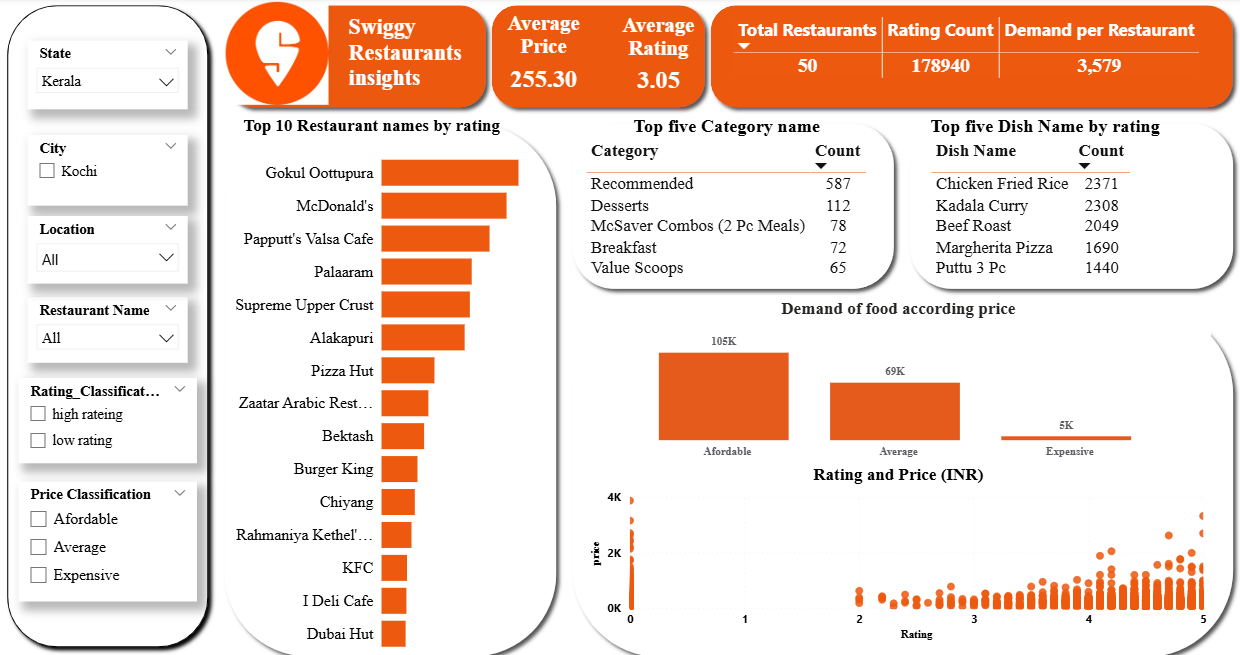

Layout of this report page (visuals, bound fields, positions):
{"tool":"powerbi","page":{"name":"Page 1","canvas":[1360,730],"ordinal":0},"visuals":[{"type":"shape","box":[241.3,0,300.4,129.7],"z":0},{"type":"shape","box":[530.3,0,251.2,129.7],"z":1000},{"type":"shape","box":[770,0,589.4,129.7],"z":2000},{"type":"image","box":[241.3,0,126.4,123.1],"z":3000},{"type":"shape","box":[0,0,238,720.7],"z":4000},{"type":"slicer","fields":{"Values":["swiggy_all_menus_india.State"]},"box":[31.2,47.6,175.7,75.5],"z":5000},{"type":"slicer","fields":{"Values":["swiggy_all_menus_india.City"]},"box":[31.2,151,175.7,77.2],"z":6000},{"type":"card","title":"Average Rating","fields":{"Values":["Avg(swiggy_all_menus_india.Rating)"]},"box":[673.1,18.1,96.9,93.6],"z":7000},{"type":"slicer","fields":{"Values":["swiggy_all_menus_india.Restaurant Name"]},"box":[31.2,328.3,175.7,72.2],"z":8000},{"type":"shape","box":[618.4,130.5,369.5,198.8],"z":9000},{"type":"shape","box":[238,129.7,380.9,600.9],"z":10000},{"type":"shape","box":[987.9,130.5,371.5,198.8],"z":11000},{"type":"barChart","title":"Top 10 Restaurant names by rating","fields":{"Category":["swiggy_all_menus_india.Restaurant Name"],"Y":["Sum(swiggy_all_menus_india.Rating Count)"]},"box":[241.3,129.7,333.3,600.9],"z":12000},{"type":"tableEx","title":"Top five Category name","fields":{"Values":["swiggy_all_menus_india.Category","CountNonNull(swiggy_all_menus_india.Restaurant Name)"]},"box":[636.5,130.5,319.3,198.8],"z":13000},{"type":"shape","box":[618.4,329.3,740.9,401.6],"z":14000},{"type":"tableEx","title":"Top five Dish Name by rating","fields":{"Values":["swiggy_all_menus_india.Dish Name","Sum(swiggy_all_menus_india.Rating Count)"]},"box":[1014,130.5,325.3,198.8],"z":15000},{"type":"slicer","fields":{"Values":["swiggy_all_menus_india.Price Classification"]},"box":[21.3,530.3,195.4,131.3],"z":16000},{"type":"scatterChart","fields":{"X":["swiggy_all_menus_india.Rating"],"Y":["swiggy_all_menus_india.Price (INR)"]},"box":[642.5,512,684.7,196.8],"z":17000},{"type":"slicer","fields":{"Values":["swiggy_all_menus_india.Rating_Classification"]},"box":[21.3,417,195.4,93.6],"z":18000},{"type":"slicer","fields":{"Values":["swiggy_all_menus_india.Location"]},"box":[31.2,239.7,175.7,73.9],"z":19000},{"type":"tableEx","fields":{"Values":["swiggy_all_menus_india.Total Restaurants","swiggy_all_menus_india.Total Ratings","swiggy_all_menus_india.Demand per Restaurant"]},"box":[797.9,16.4,541.8,95.2],"z":20000},{"type":"card","title":"Average Price","fields":{"Values":["Avg(swiggy_all_menus_india.Price (INR))"]},"box":[541.8,16.4,108.4,95.2],"z":21000},{"type":"columnChart","title":"Demand of food according price","fields":{"Category":["swiggy_all_menus_india.Price Classification"],"Y":["Sum(swiggy_all_menus_india.Rating Count)"]},"box":[642.5,329.3,684.7,182.7],"z":22000},{"type":"textbox","box":[377.6,13.1,152.7,96.9],"z":23000}]}

Visuals, with their boxes in screenshot pixels (x1, y1, x2, y2), scaled from the page's 1360x730 canvas onto the 1240x655 screenshot:
shape: box=[220, 0, 494, 116]
shape: box=[484, 0, 713, 116]
shape: box=[702, 0, 1239, 116]
image: box=[220, 0, 335, 110]
shape: box=[0, 0, 217, 647]
slicer - swiggy_all_menus_india.State: box=[28, 43, 189, 110]
slicer - swiggy_all_menus_india.City: box=[28, 135, 189, 205]
"Average Rating" card: box=[614, 16, 702, 100]
slicer - swiggy_all_menus_india.Restaurant Name: box=[28, 295, 189, 359]
shape: box=[564, 117, 901, 295]
shape: box=[217, 116, 564, 654]
shape: box=[901, 117, 1239, 295]
"Top 10 Restaurant names by rating" barChart: box=[220, 116, 524, 654]
"Top five Category name" tableEx: box=[580, 117, 871, 295]
shape: box=[564, 295, 1239, 654]
"Top five Dish Name by rating" tableEx: box=[925, 117, 1221, 295]
slicer - swiggy_all_menus_india.Price Classification: box=[19, 476, 198, 594]
scatterChart - swiggy_all_menus_india.Rating x swiggy_all_menus_india.Price (INR): box=[586, 459, 1210, 636]
slicer - swiggy_all_menus_india.Rating_Classification: box=[19, 374, 198, 458]
slicer - swiggy_all_menus_india.Location: box=[28, 215, 189, 281]
tableEx - swiggy_all_menus_india.Total Restaurants x swiggy_all_menus_india.Total Ratings: box=[727, 15, 1221, 100]
"Average Price" card: box=[494, 15, 593, 100]
"Demand of food according price" columnChart: box=[586, 295, 1210, 459]
textbox: box=[344, 12, 484, 99]
